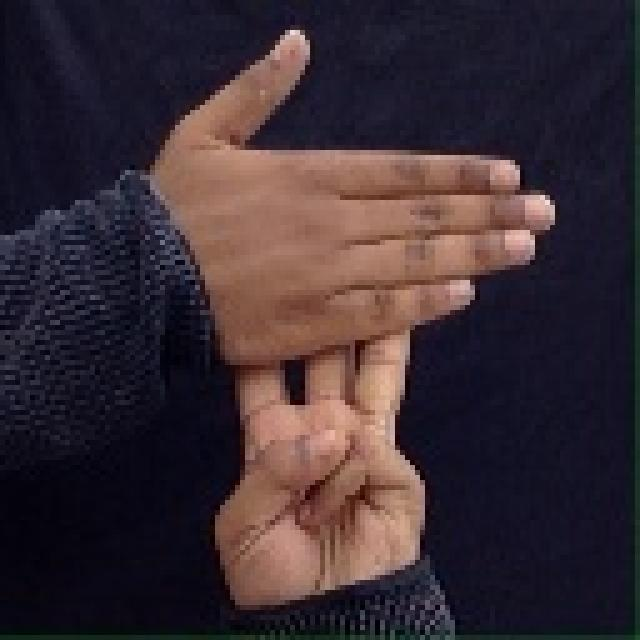O: (135, 15, 560, 370)
